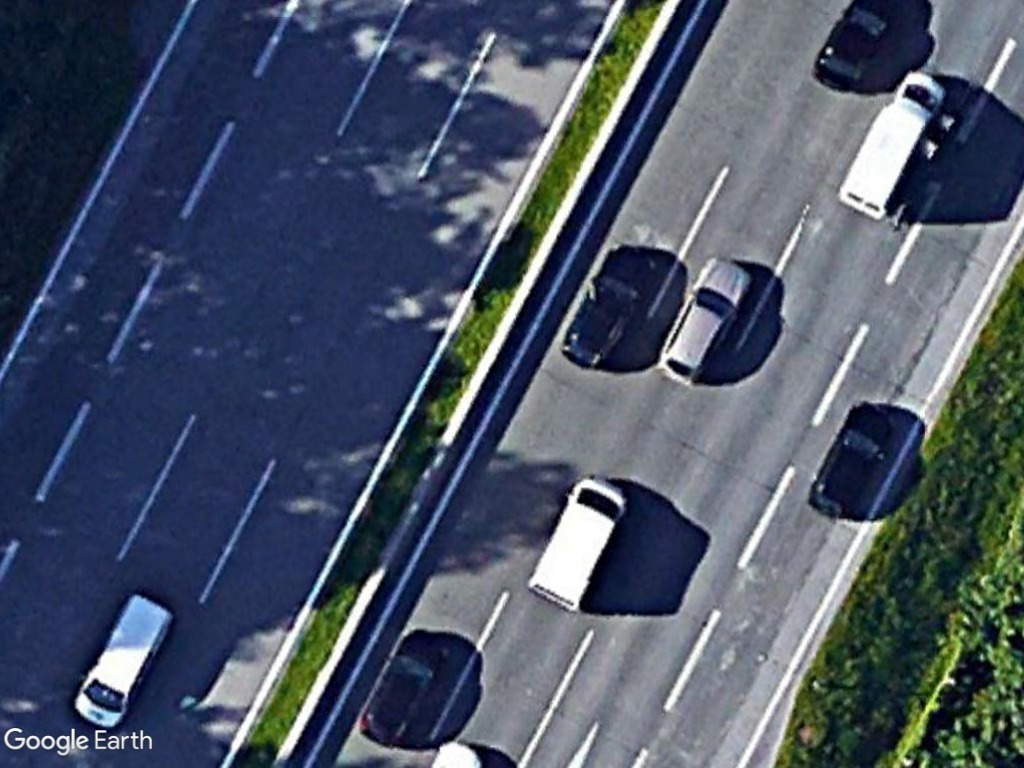car: (550, 240, 667, 369), (655, 255, 759, 389), (354, 624, 454, 750), (800, 397, 898, 524)
truck: (835, 71, 952, 227)
van: (68, 578, 179, 734), (527, 471, 636, 617)
